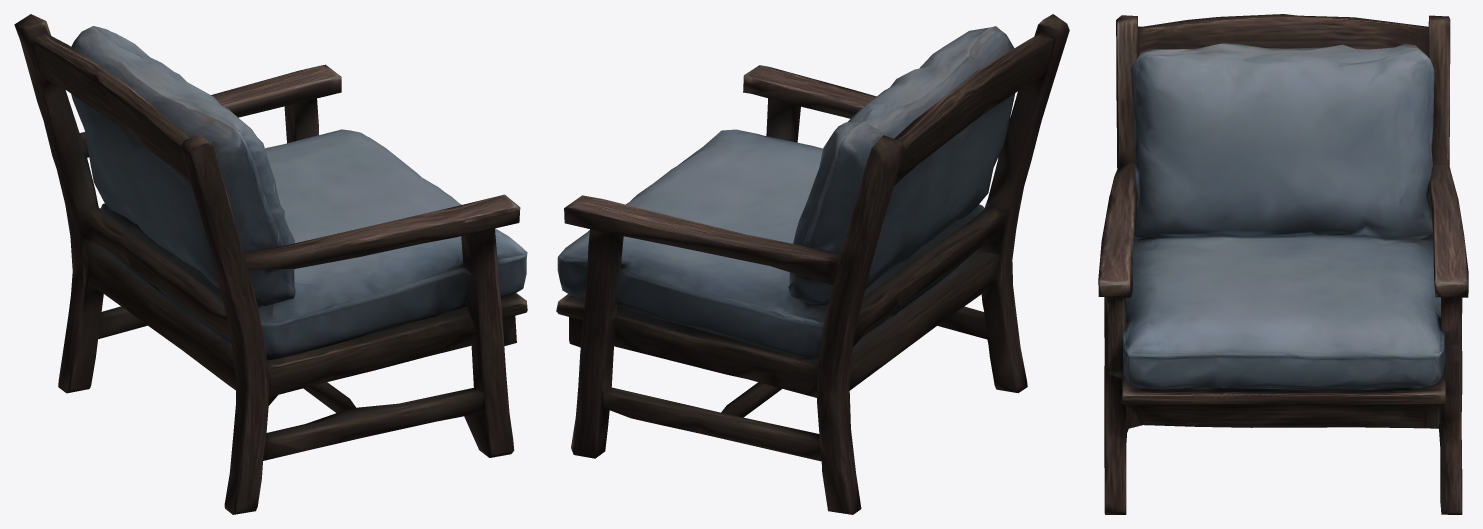
The model's file is wooden+armchair+3d+model (1).glb.
The picture shows the model from 3 angles, left to right: view 1: azimuth 30°, elevation 25°; view 2: azimuth 150°, elevation 25°; view 3: azimuth 270°, elevation 25°; orthographic projection. The views are drawn at different scales.
Parts seen in each view (by area): view 1: tripo_node_344ed760-61ec-402d-8e3a-253b9b13fe9d; view 2: tripo_node_344ed760-61ec-402d-8e3a-253b9b13fe9d; view 3: tripo_node_344ed760-61ec-402d-8e3a-253b9b13fe9d.
Part boxes in pixels (x1,y1,x2,y2): tripo_node_344ed760-61ec-402d-8e3a-253b9b13fe9d: [14, 14, 527, 514]; tripo_node_344ed760-61ec-402d-8e3a-253b9b13fe9d: [556, 14, 1069, 514]; tripo_node_344ed760-61ec-402d-8e3a-253b9b13fe9d: [1098, 14, 1468, 514].
Bounding box in the file's own units: 0.9507 × 1 × 0.9322.
Materials: 1 (1 with a texture image).
